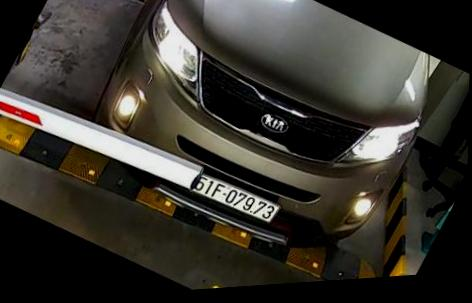License_Plate: (190, 163, 289, 234)
